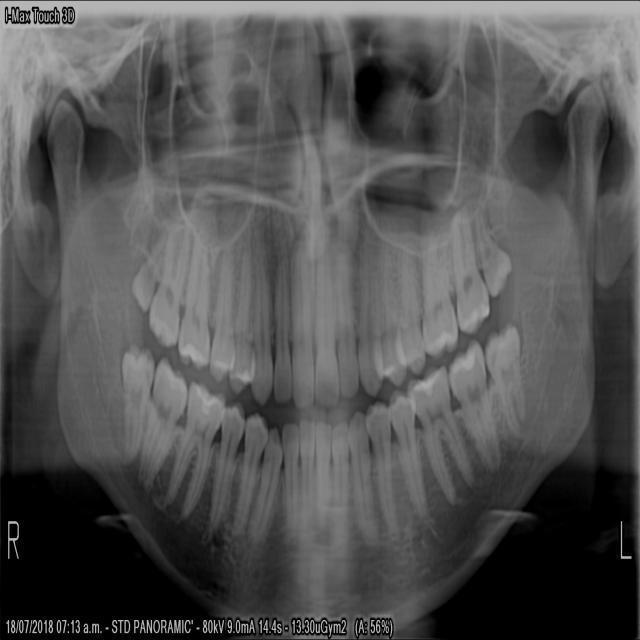LCD: (349, 410, 379, 554)
LCU: (356, 230, 379, 397)
LID: (332, 415, 352, 540), (315, 413, 331, 522)
LIU: (315, 218, 339, 412), (335, 227, 358, 405)
LMD: (406, 357, 478, 515), (448, 337, 503, 482), (486, 321, 527, 444)
LMU: (422, 216, 462, 363), (448, 205, 491, 337), (467, 201, 509, 304)
LPMD: (389, 387, 429, 521), (365, 399, 399, 540)
LPMU: (376, 229, 408, 385), (395, 224, 425, 377)
RCD: (251, 426, 280, 540)
RCU: (250, 232, 273, 404)
RID: (280, 418, 300, 549), (297, 416, 314, 526)
RIU: (285, 219, 316, 408), (273, 240, 292, 404)
RMD: (160, 380, 224, 526), (135, 357, 186, 496), (115, 346, 156, 466)
RMU: (146, 204, 193, 344), (178, 197, 215, 369), (133, 204, 179, 308)
RPMD: (206, 401, 244, 535), (231, 415, 269, 541)
RPMU: (209, 224, 236, 383), (230, 227, 255, 396)
